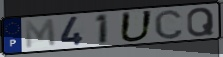1: (94, 13, 110, 45)
4: (60, 15, 88, 47)
C: (153, 8, 185, 40)
M: (23, 18, 58, 50)
Q: (186, 6, 216, 38)
U: (118, 9, 155, 43)
